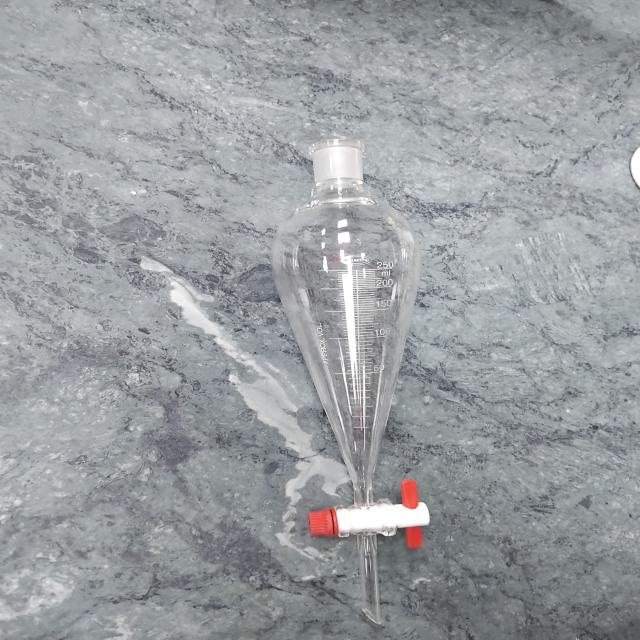Separating_Funnel: (233, 106, 483, 640)
